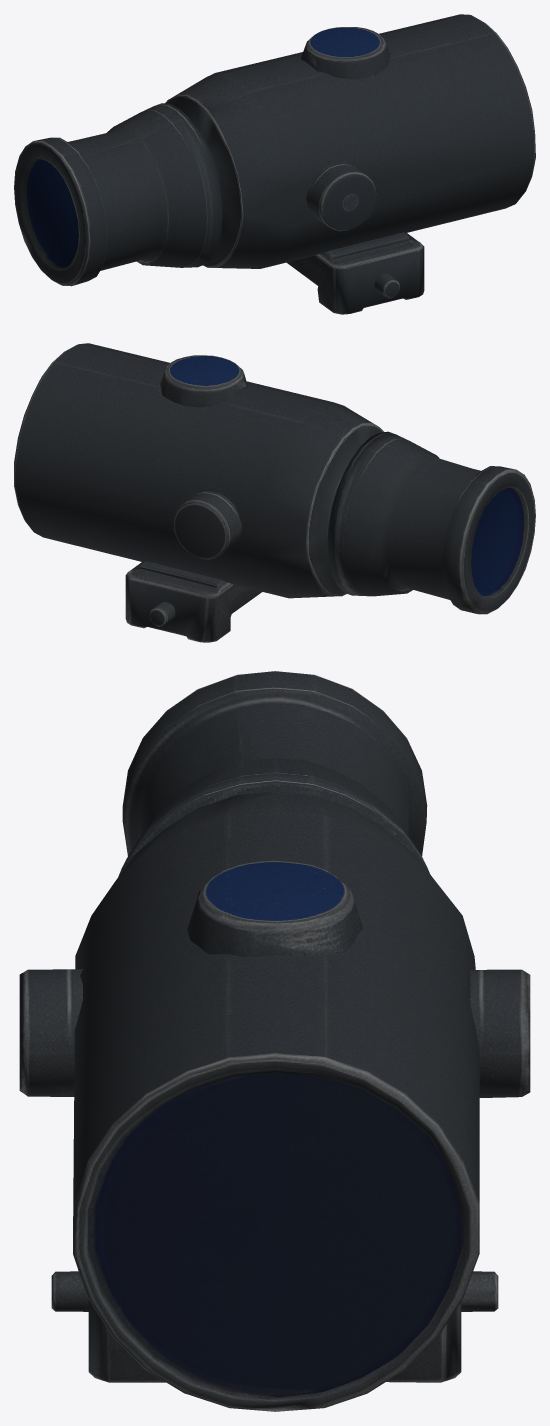
Rendered from weapon-scope.glb.
3 renders of one model, top to bottom at view 1: azimuth 30°, elevation 25°; view 2: azimuth 150°, elevation 25°; view 3: azimuth 270°, elevation 25°, orthographic. The views are drawn at different scales.
Size of the model in its own units: 0.96 by 0.4761 by 0.4839.
1 material, 1 textured.
